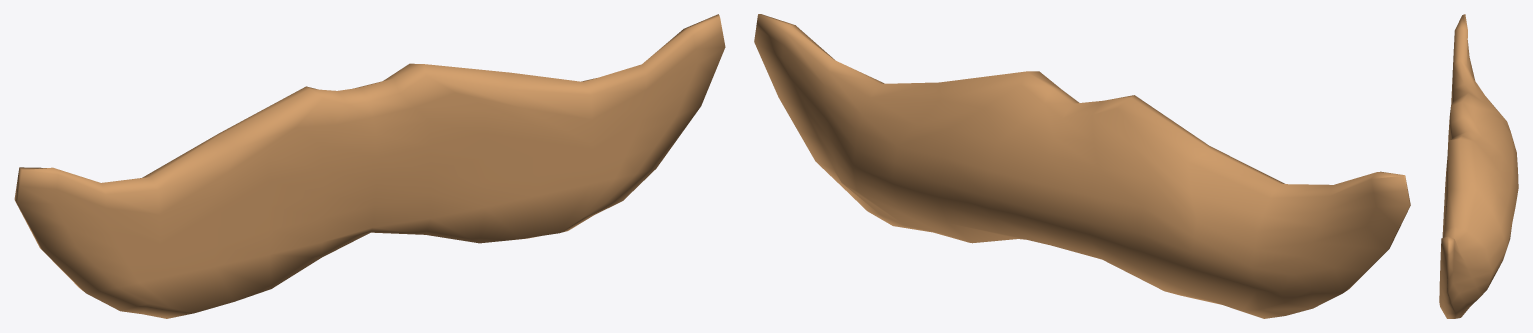
Rendered from moustache2.fbx.
3 renders of one model, left to right at view 1: azimuth 30°, elevation 25°; view 2: azimuth 150°, elevation 25°; view 3: azimuth 270°, elevation 25°, orthographic. The views are drawn at different scales.
Visible parts, largest first — view 1: Mustache; view 2: Mustache; view 3: Mustache.
Part boxes in pixels (box(x1,y1,x2,y2)): Mustache: box(14, 14, 725, 318); Mustache: box(754, 14, 1410, 318); Mustache: box(1439, 14, 1518, 318).
Bounding box in the file's own units: 6.73 × 1.83 × 0.9878.
